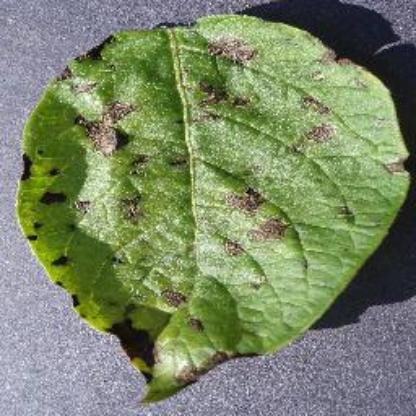Early-Blight: (15, 7, 415, 406)
